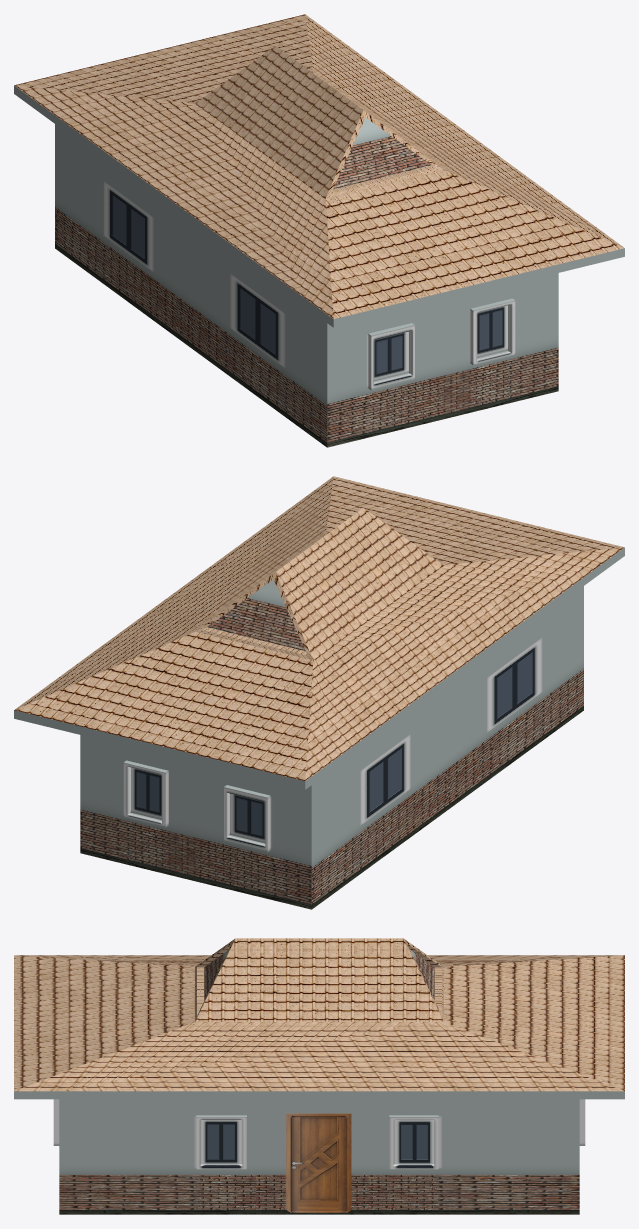
The model's file is BAT1_SETA_HOUSE14.fbx.
3 views of the same model, one above another, from view 1: azimuth 30°, elevation 25°; view 2: azimuth 150°, elevation 25°; view 3: azimuth 270°, elevation 25° (orthographic). The views are drawn at different scales.
Visible parts, largest first — view 1: _14; view 2: _14; view 3: _14.
Part boxes in pixels (x1=…): _14: x1=14, y1=14, x2=624, y2=447; _14: x1=14, y1=476, x2=624, y2=909; _14: x1=14, y1=938, x2=624, y2=1214.
Size of the model in its own units: 36.83 by 28.85 by 69.98.
Materials: 1 (1 with a texture image).
